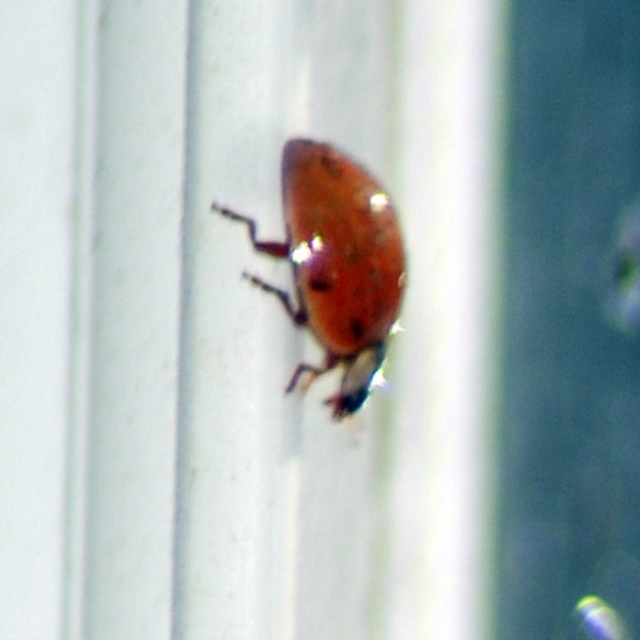Ladybug: (213, 137, 409, 418)
